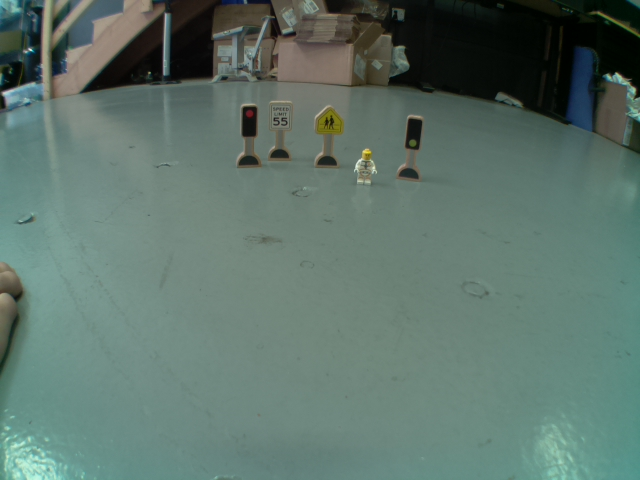Green Traffic Light: (402, 111, 426, 154)
Red Traffic Light: (239, 103, 258, 138)
Speed Limit 55: (271, 102, 292, 131)
YIELD: (313, 103, 344, 137)
person: (353, 147, 378, 185)
